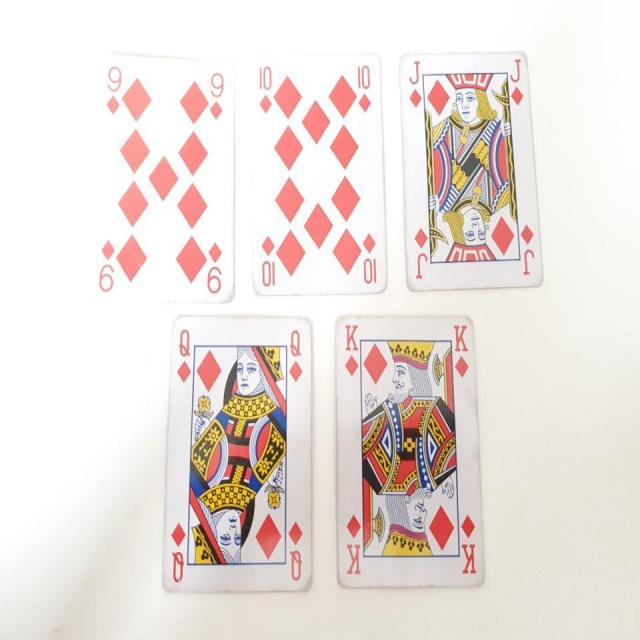10 of diamonds: (250, 46, 386, 298)
9 of diamonds: (86, 49, 236, 302)
jack of diamonds: (396, 50, 544, 292)
king of diamonds: (334, 314, 487, 588)
queen of diamonds: (161, 312, 316, 596)
